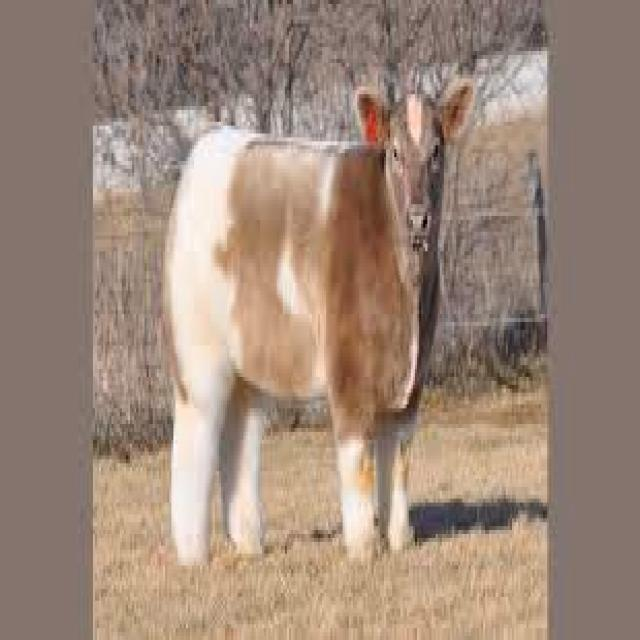cow: (165, 79, 473, 558)
